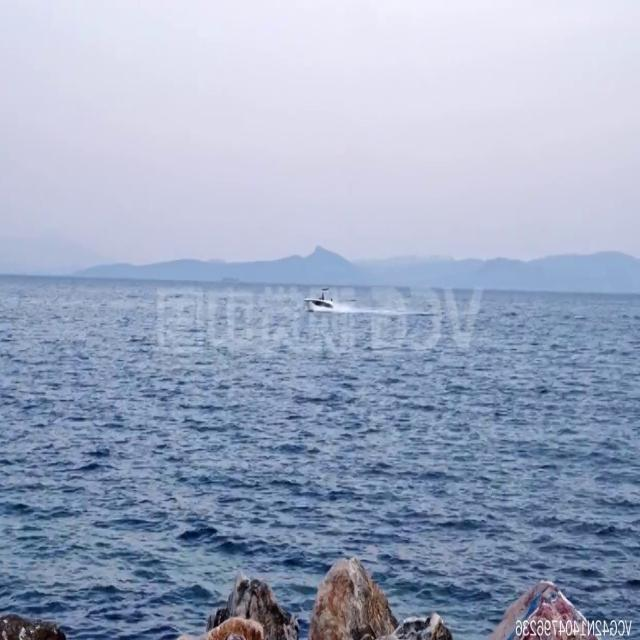houseboat: (304, 284, 333, 315)
